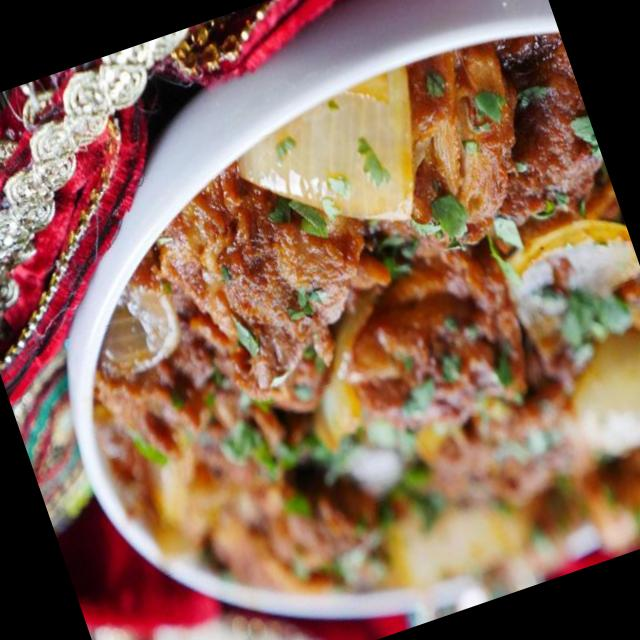chicken: (81, 35, 640, 640)
